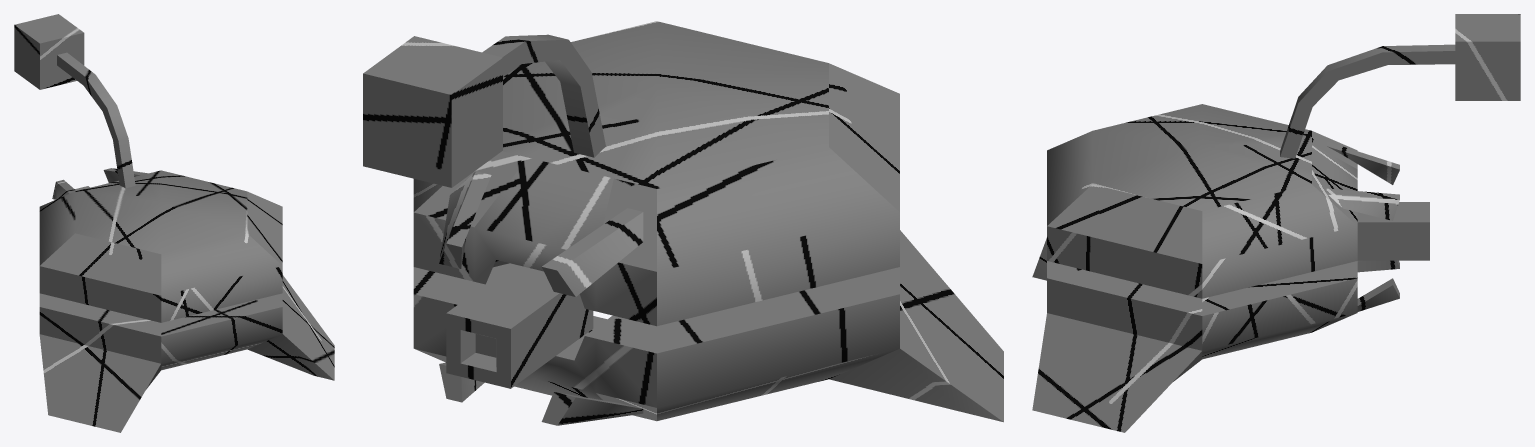
The model's file is drone_mesh.fbx.
3 views of the same model, side by side, from view 1: azimuth 30°, elevation 25°; view 2: azimuth 150°, elevation 25°; view 3: azimuth 270°, elevation 25° (orthographic). The views are drawn at different scales.
Parts seen in each view (by area): view 1: polySurface3; view 2: polySurface3; view 3: polySurface3.
Part boxes in pixels (<box>): polySurface3: <box>14,14,334,432</box>; polySurface3: <box>363,21,1003,425</box>; polySurface3: <box>1032,14,1520,432</box>.
Size of the model in its own units: 2.36 by 1.94 by 2.72.
1 material, 1 textured.
